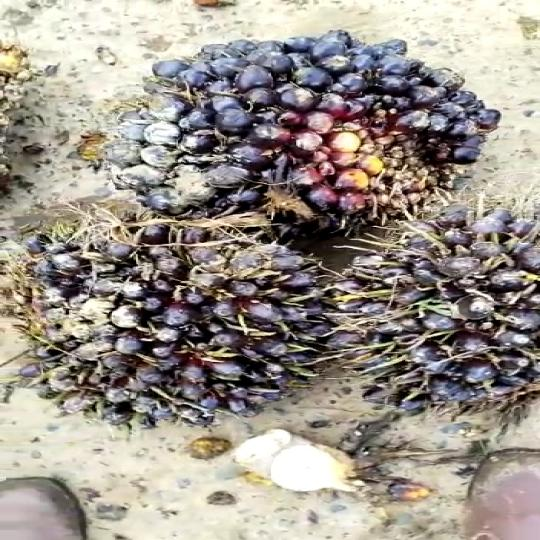mentah: (0, 202, 335, 448), (120, 20, 485, 237), (319, 215, 540, 429)
